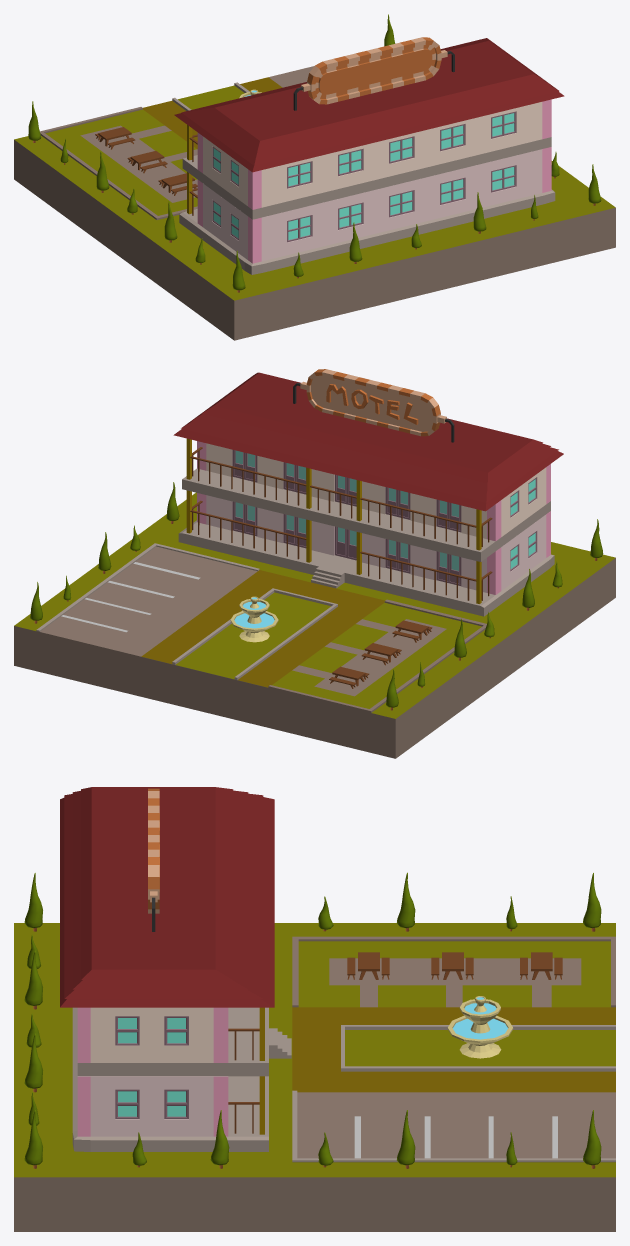
File: Motel.fbx
The picture shows the model from 3 angles, top to bottom: view 1: azimuth 30°, elevation 25°; view 2: azimuth 150°, elevation 25°; view 3: azimuth 270°, elevation 25°; orthographic projection. The views are drawn at different scales.
Visible parts, largest first — view 1: M_ground, M_roof_3, M_walls_1, M_walls_2, M_tables_12, M_sign_10, M_trees_11, M_windows_7, M_windows_6, M_fountain_14, M_windows_8, M_balcony_9 (+1 smaller); view 2: M_ground, M_roof_3, M_walls_1, M_fountain_14, M_walls_2, M_parking_13, M_tables_12, M_sign_10, M_balcony_9, M_doors_4, M_doors_5, M_trees_11 (+1 smaller); view 3: M_ground, M_roof_3, M_fountain_14, M_tables_12, M_parking_13, M_walls_1, M_walls_2, M_trees_11, M_windows_8, M_sign_10, M_balcony_9.
Part boxes in pixels (x1=…): M_ground: x1=14, y1=136, x2=615, y2=340; M_roof_3: x1=174, y1=38, x2=564, y2=172; M_walls_1: x1=179, y1=147, x2=555, y2=274; M_walls_2: x1=182, y1=99, x2=551, y2=219; M_tables_12: x1=40, y1=107, x2=197, y2=219; M_sign_10: x1=293, y1=37, x2=454, y2=110; M_trees_11: x1=28, y1=14, x2=601, y2=292; M_windows_7: x1=287, y1=111, x2=516, y2=188; M_windows_6: x1=287, y1=165, x2=516, y2=242; M_fountain_14: x1=143, y1=77, x2=282, y2=149; M_windows_8: x1=212, y1=146, x2=238, y2=240; M_balcony_9: x1=187, y1=125, x2=197, y2=215; M_ground: x1=14, y1=492, x2=615, y2=758; M_roof_3: x1=173, y1=372, x2=563, y2=511; M_walls_1: x1=178, y1=493, x2=554, y2=616; M_fountain_14: x1=141, y1=570, x2=384, y2=687; M_walls_2: x1=182, y1=441, x2=550, y2=561; M_parking_13: x1=36, y1=543, x2=259, y2=656; M_tables_12: x1=268, y1=599, x2=486, y2=712; M_sign_10: x1=293, y1=369, x2=454, y2=442; M_balcony_9: x1=186, y1=438, x2=492, y2=603; M_doors_4: x1=232, y1=501, x2=461, y2=585; M_doors_5: x1=232, y1=449, x2=461, y2=532; M_trees_11: x1=30, y1=482, x2=603, y2=710; M_ground: x1=14, y1=923, x2=615, y2=1231; M_roof_3: x1=60, y1=787, x2=274, y2=1007; M_fountain_14: x1=292, y1=996, x2=615, y2=1092; M_tables_12: x1=292, y1=936, x2=615, y2=1007; M_parking_13: x1=292, y1=1090, x2=615, y2=1162; M_walls_1: x1=72, y1=1007, x2=291, y2=1151; M_walls_2: x1=77, y1=1007, x2=268, y2=1076; M_trees_11: x1=24, y1=872, x2=601, y2=1168; M_windows_8: x1=115, y1=1016, x2=188, y2=1118; M_sign_10: x1=148, y1=788, x2=159, y2=931; M_balcony_9: x1=228, y1=1007, x2=264, y2=1134.
Size of the model in its own units: 10 by 5.15 by 10.
